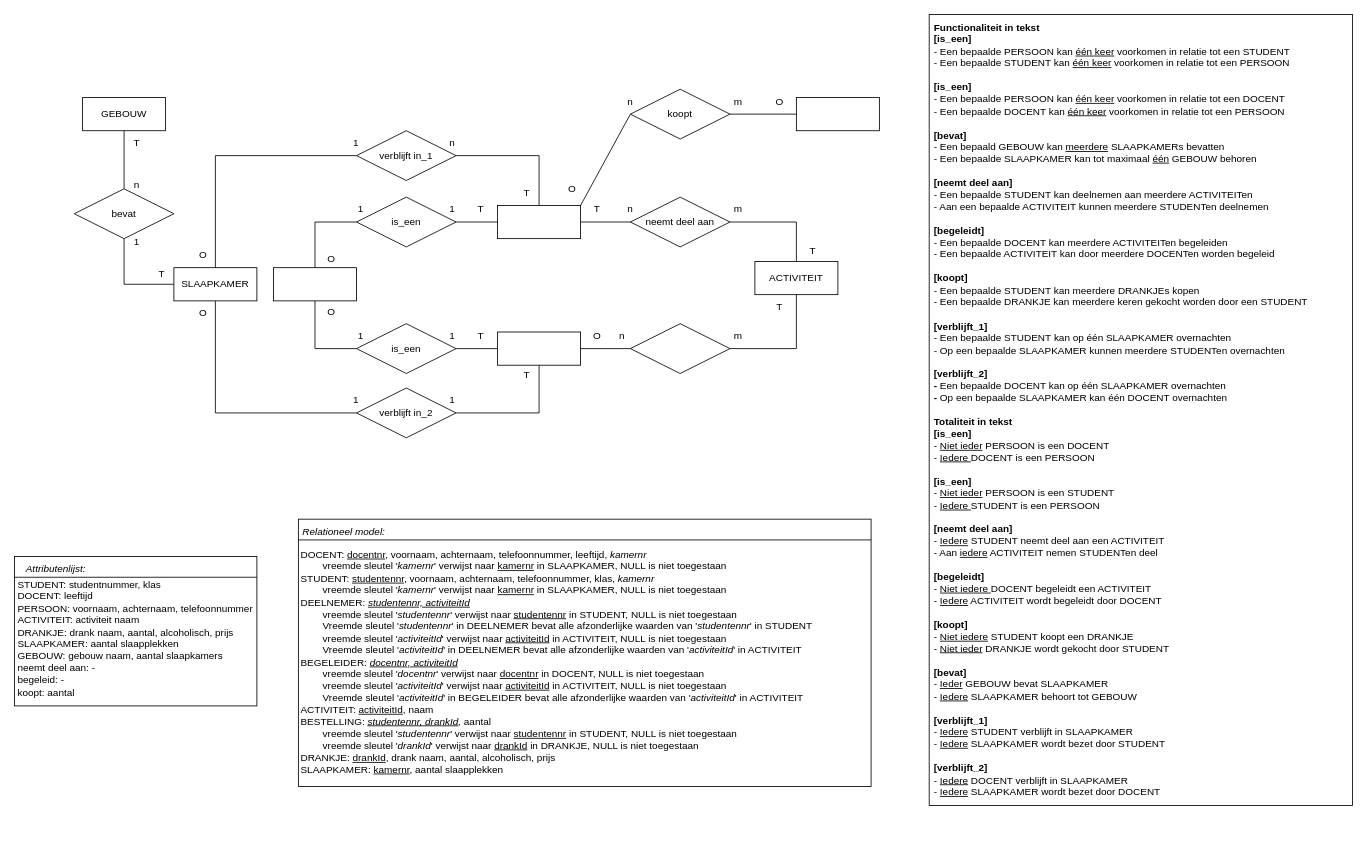
Image size: 1367x861. Some labels were removed from this diagram. The shapes that lost their labels are listed below. From the top down, each one's centre as x and y in pixels, then its label:
the point at 837,114: DRANKJE
the point at 539,222: STUDENT
the point at 314,284: PERSOON
the point at 539,348: DOCENT
the point at 680,348: begeleid
